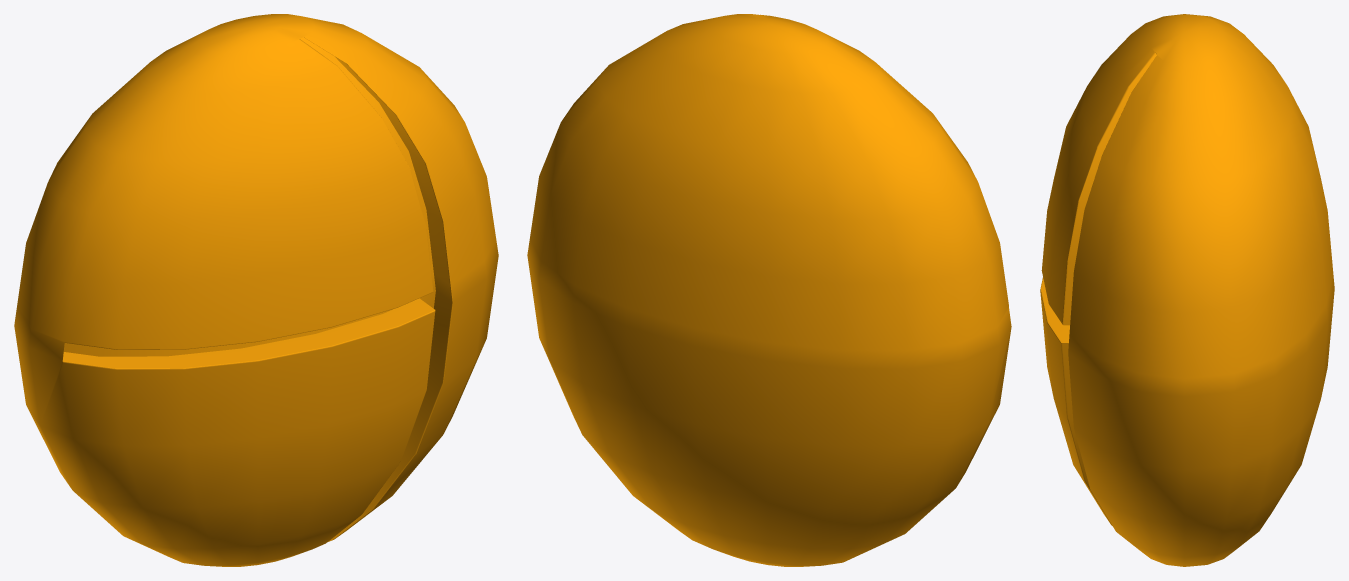
Rendered from Orange_stone.fbx.
3 views of the same model, side by side, from view 1: azimuth 30°, elevation 25°; view 2: azimuth 150°, elevation 25°; view 3: azimuth 270°, elevation 25° (orthographic). The views are drawn at different scales.
Parts seen in each view (by area): view 1: polySurface23; view 2: polySurface23; view 3: polySurface23.
Part boxes in pixels (x1=…): polySurface23: x1=14, y1=14, x2=498, y2=566; polySurface23: x1=527, y1=14, x2=1011, y2=566; polySurface23: x1=1040, y1=14, x2=1334, y2=566.
Bounding box in the file's own units: 0.8829 × 0.9762 × 0.5082.
